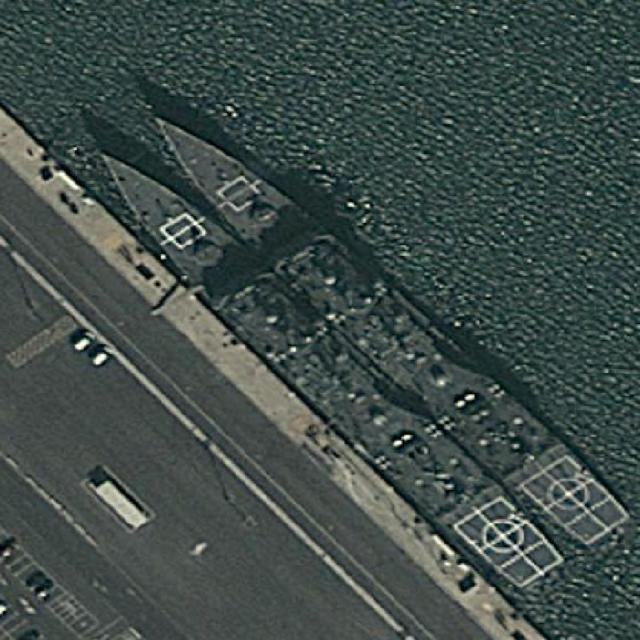Frigate: (138, 85, 634, 566), (78, 126, 567, 604)
